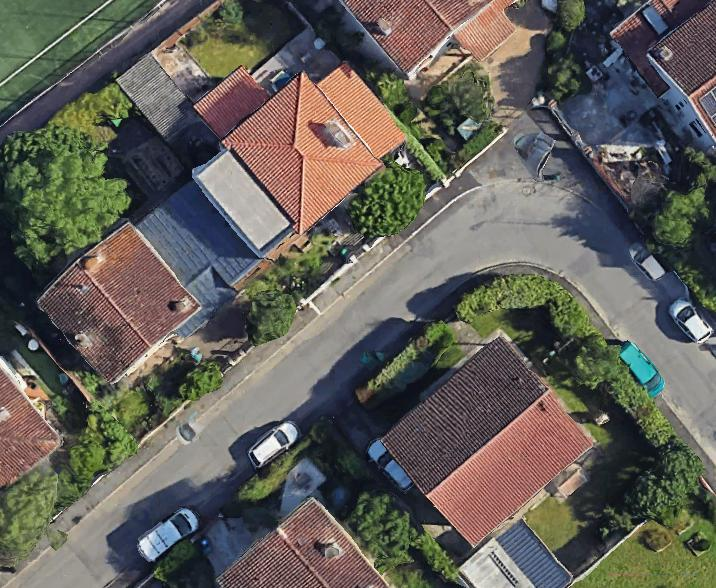maison: (190, 11, 413, 237), (376, 331, 595, 548), (32, 215, 206, 389), (216, 498, 389, 587), (612, 0, 715, 148), (338, 0, 516, 79), (0, 357, 61, 486)
